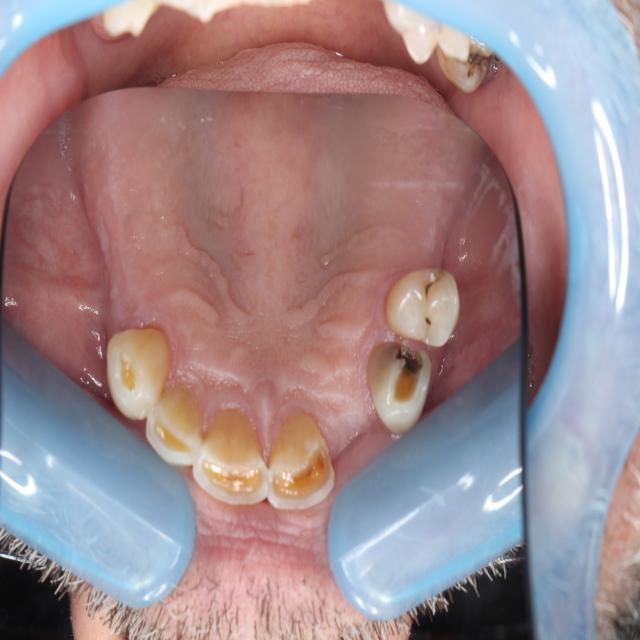tooth: (189, 393, 272, 516), (265, 407, 341, 515), (363, 333, 435, 443), (99, 324, 176, 426), (379, 259, 464, 351), (140, 375, 207, 476)
